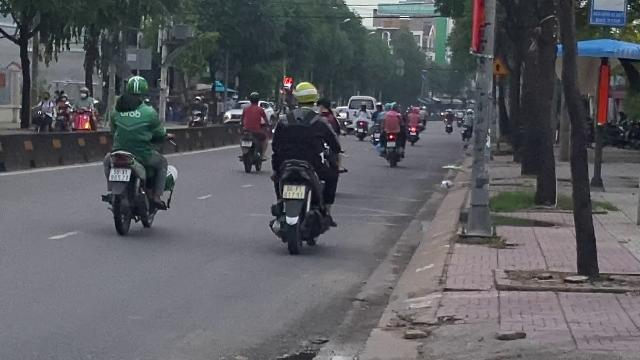helmet: (292, 82, 320, 106), (124, 75, 148, 100)
licenseplate: (109, 168, 131, 182), (283, 185, 305, 198)
motorcyclist: (265, 80, 345, 253), (98, 74, 176, 236)
